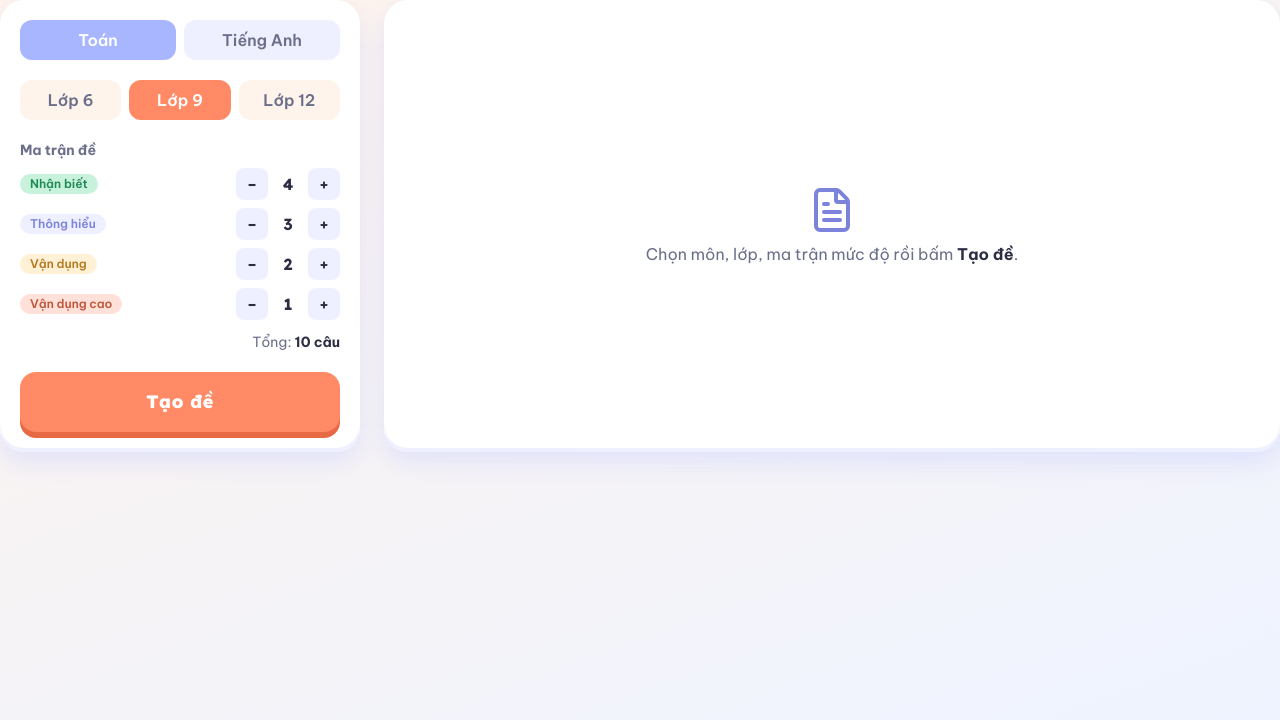
Test: ExamBuilderDemo › matrix stepper changes counts
What coordinates should you click on to do the following:
click the button named "Tăng Nhận biết"
I would click on:
 (324, 184)
Its box is x1=308 y1=168 x2=340 y2=200.
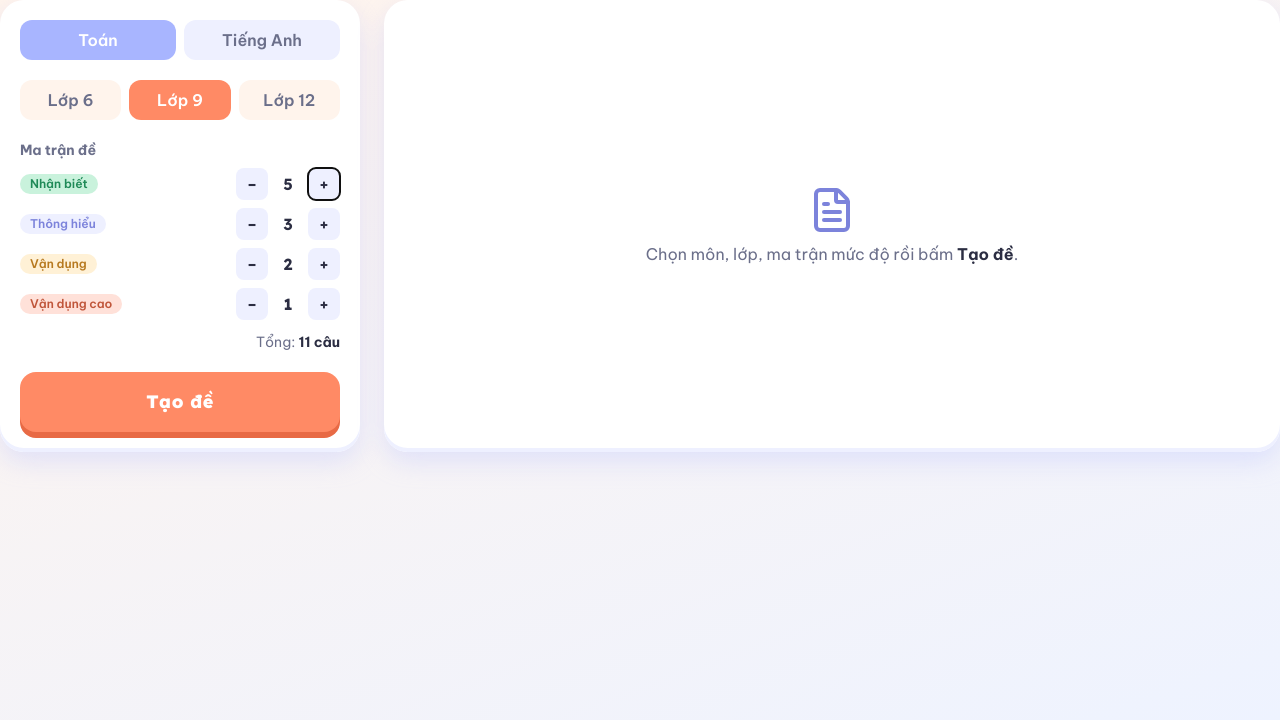
Expected: the text with test id "count-NB" reads "5", x1=283 y1=174 x2=293 y2=194
